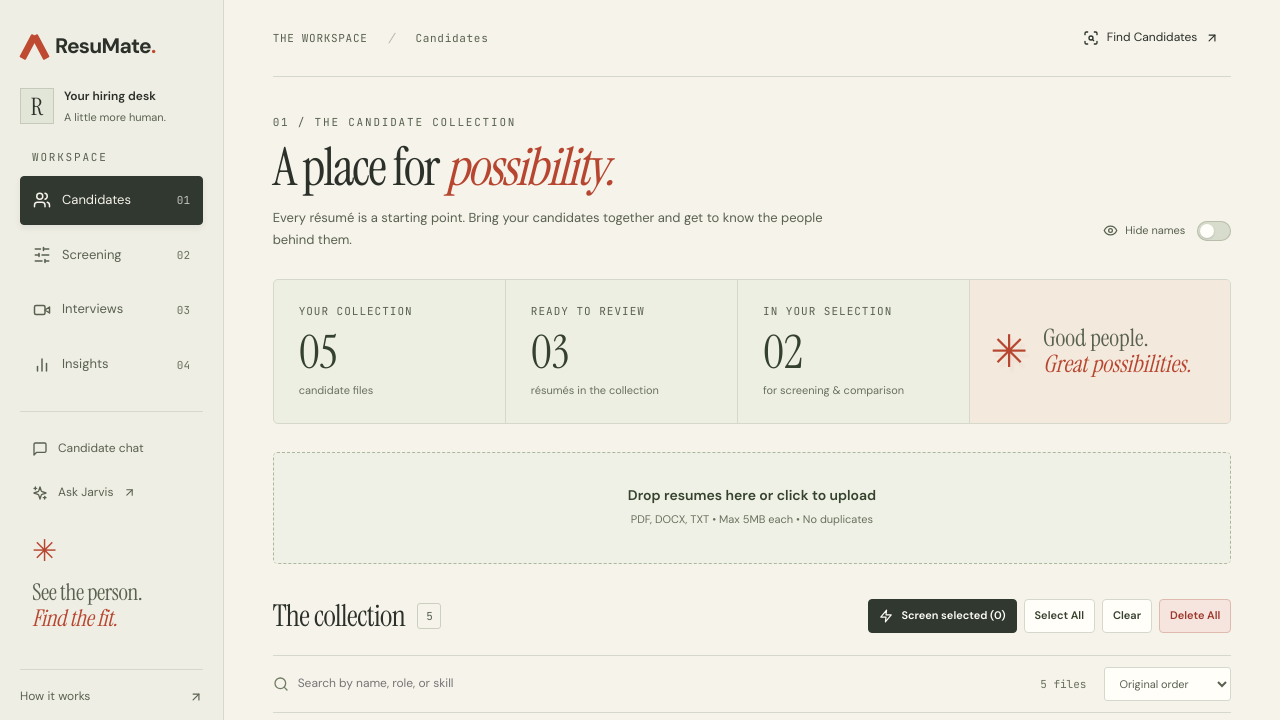
it: screening from the Candidates page › says when a selection has nothing to screen, and leads back to it
Click the button "Screen selected (0)".
click(942, 616)  # box x1=868 y1=599 x2=1017 y2=633
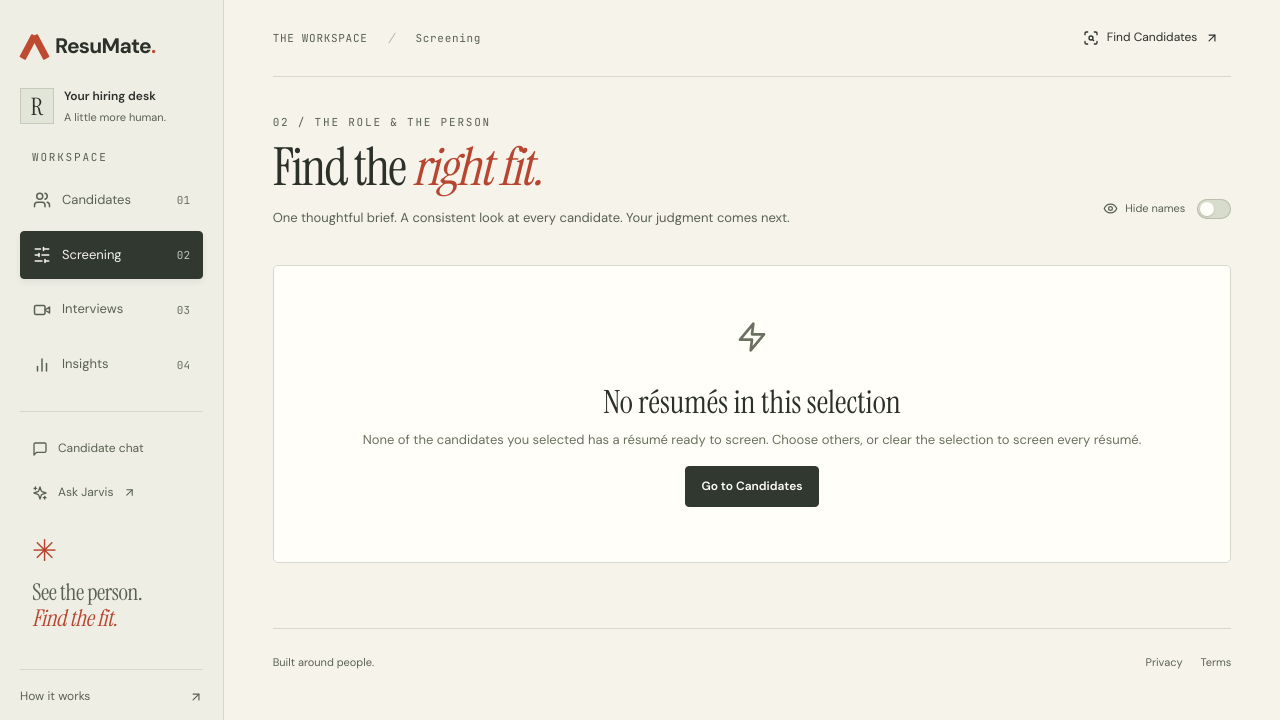
Expected: the heading "No résumés in this selection" is shown, x1=603 y1=381 x2=901 y2=423
Click the button "Go to Candidates".
click(752, 486)  # box x1=685 y1=466 x2=819 y2=507
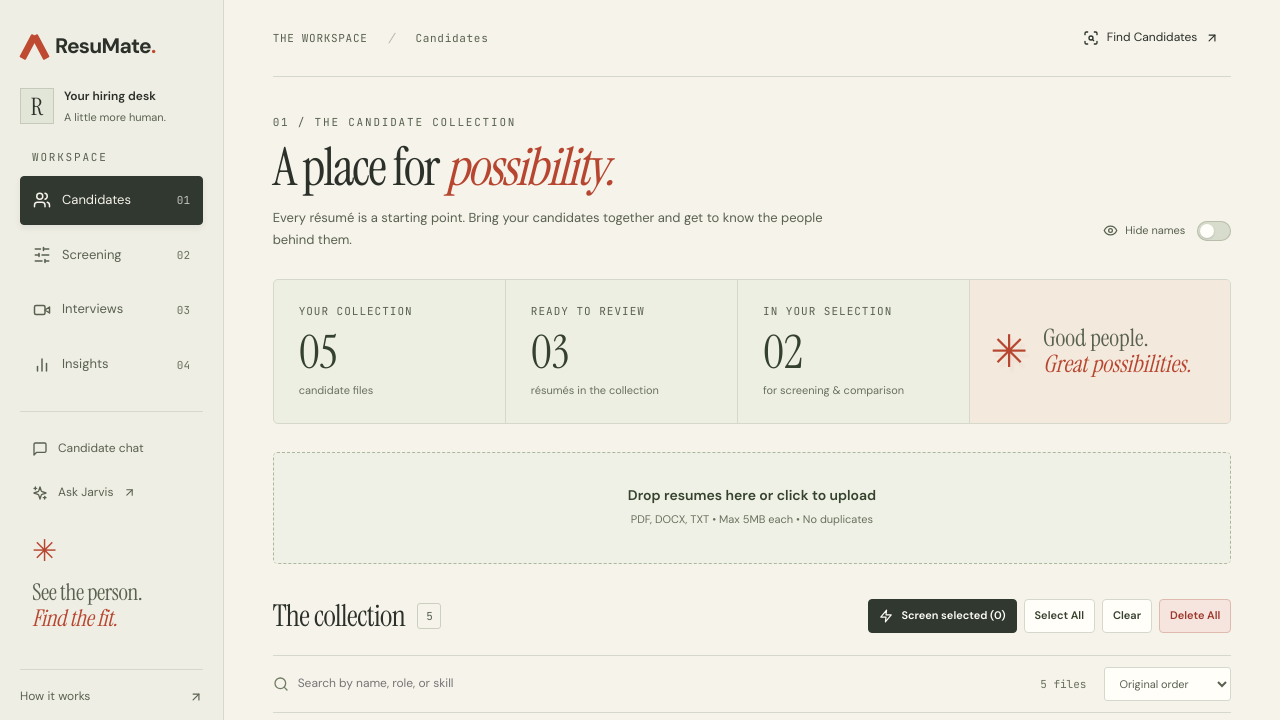
Expected: the heading "The collection 5" is shown, x1=273 y1=596 x2=441 y2=635
